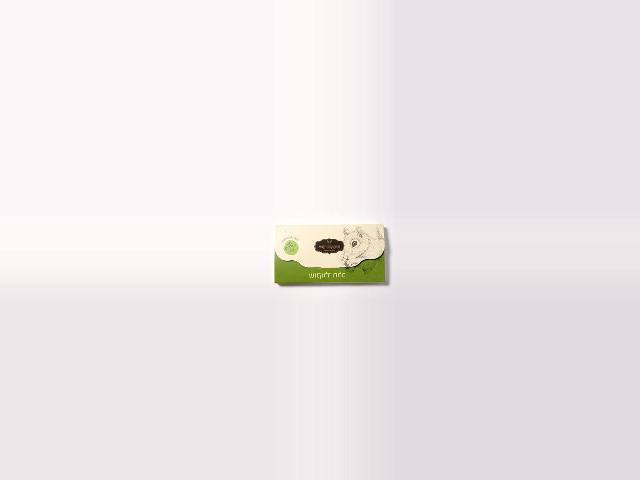chocolate: (273, 222, 386, 285)
